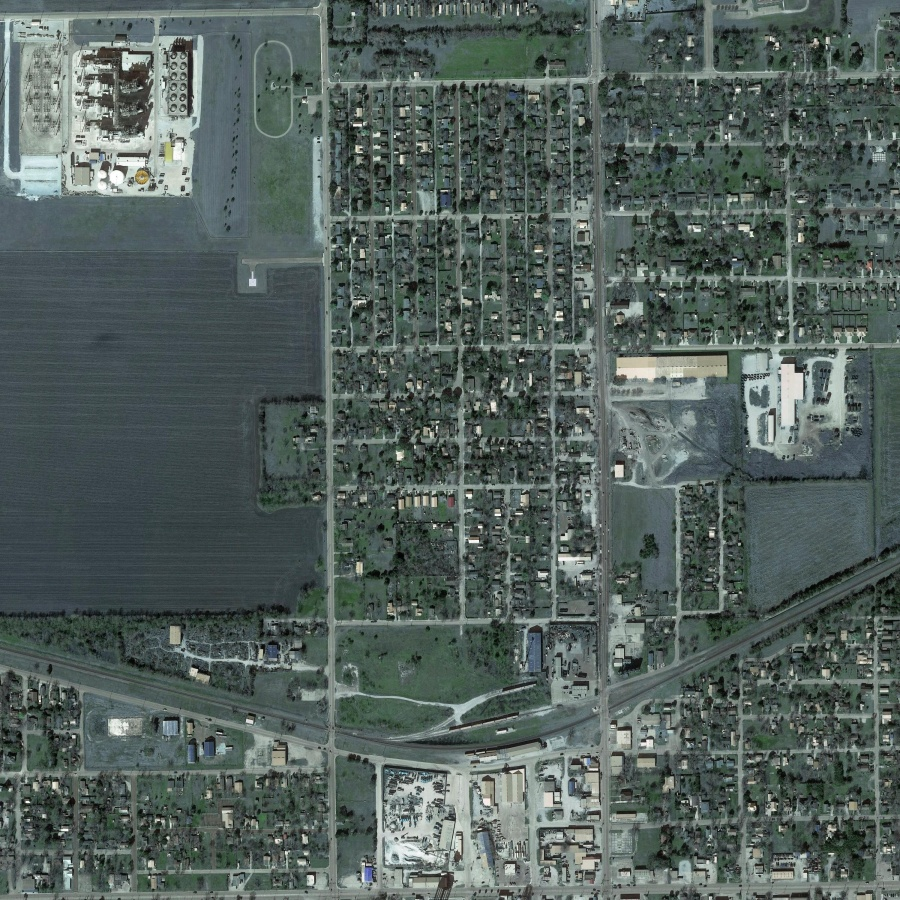PowerPlant: (6, 14, 200, 203)
